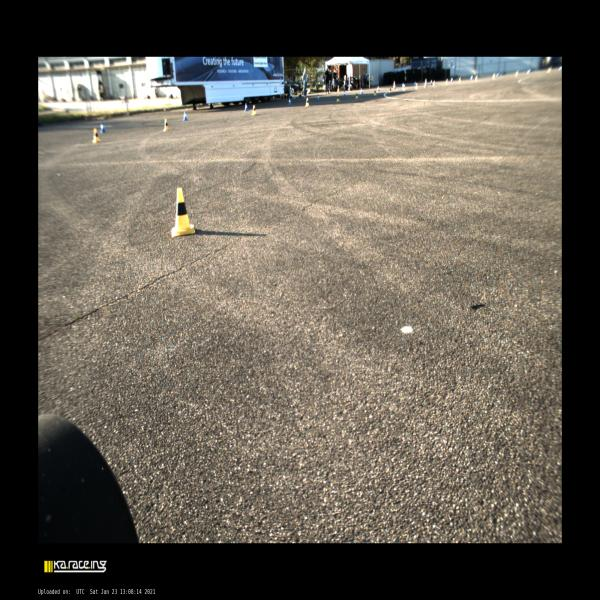blue_cone: (100, 122, 107, 133), (183, 111, 188, 121), (244, 103, 248, 111), (288, 98, 292, 105), (527, 69, 531, 74), (343, 90, 346, 96), (360, 88, 363, 94), (377, 86, 380, 92), (558, 66, 562, 70), (470, 75, 473, 80), (317, 94, 319, 100), (402, 82, 404, 88), (450, 77, 452, 82), (496, 74, 499, 77), (430, 80, 432, 84), (414, 82, 416, 85)
large_orange_cone: (424, 78, 427, 88), (393, 81, 395, 89)
yellow_cone: (172, 188, 194, 236), (92, 128, 101, 143), (163, 119, 169, 131), (252, 105, 256, 115), (547, 66, 552, 73), (305, 98, 309, 106), (336, 94, 340, 101), (389, 87, 392, 93), (432, 80, 435, 86), (337, 86, 340, 92), (445, 78, 448, 84), (458, 77, 461, 83), (492, 73, 495, 79), (515, 71, 518, 77), (356, 92, 358, 99), (403, 84, 405, 91), (374, 90, 376, 96), (416, 82, 418, 88), (475, 76, 477, 82)
